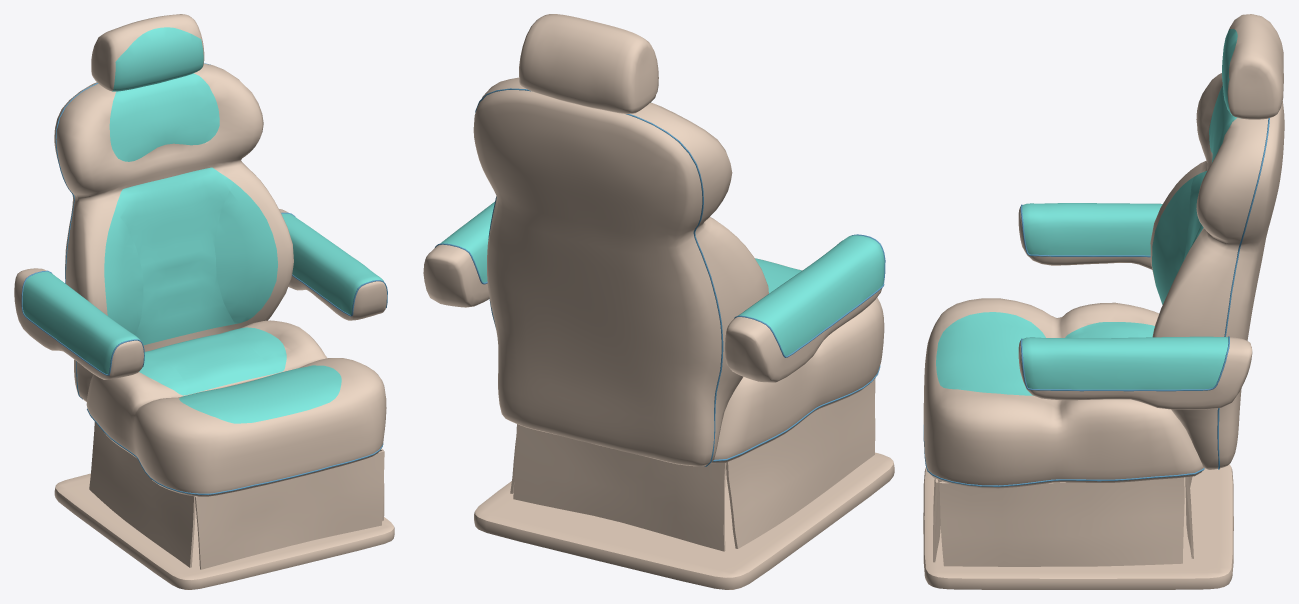
Rendered from chair1_v03.glb.
3 renders of one model, left to right at view 1: azimuth 30°, elevation 25°; view 2: azimuth 150°, elevation 25°; view 3: azimuth 270°, elevation 25°, orthographic. The views are drawn at different scales.
Parts seen in each view (by area): view 1: seat_bottom, seat_back, bottom_cover, seat_back_lower, base, seat_back_upper, seat_back_lower_Left, seat_bottom_upper, right_arm_upper, seat_bottom_lower, left_arm_upper, headset_front (+7 smaller); view 2: seat_back, bottom_cover, base, headset_back, seat_bottom, right_arm_upper, right_arm_lower, left_arm_lover, left_arm_upper, Shape001, seat_bottom_upper; view 3: seat_bottom, seat_back, bottom_cover, base, left_arm_upper, right_arm_upper, seat_bottom_upper, headset_back, left_arm_lover, seat_back_lower_Right, seat_bottom_lower_Right, right_arm_lower (+6 smaller).
Boxes of the visible parts, x1=… form: seat_bottom: x1=86, y1=320, x2=386, y2=496; seat_back: x1=54, y1=63, x2=293, y2=402; bottom_cover: x1=89, y1=421, x2=384, y2=569; seat_back_lower: x1=114, y1=167, x2=234, y2=345; base: x1=54, y1=473, x2=394, y2=589; seat_back_upper: x1=109, y1=73, x2=219, y2=161; seat_back_lower_Left: x1=215, y1=182, x2=277, y2=323; seat_bottom_upper: x1=179, y1=365, x2=341, y2=423; right_arm_upper: x1=22, y1=271, x2=140, y2=374; seat_bottom_lower: x1=144, y1=331, x2=280, y2=395; left_arm_upper: x1=281, y1=213, x2=383, y2=314; headset_front: x1=112, y1=27, x2=203, y2=91; seat_back: x1=473, y1=77, x2=768, y2=466; bottom_cover: x1=510, y1=378, x2=875, y2=551; base: x1=474, y1=452, x2=894, y2=589; headset_back: x1=519, y1=14, x2=658, y2=113; seat_bottom: x1=711, y1=259, x2=884, y2=463; right_arm_upper: x1=738, y1=235, x2=884, y2=355; right_arm_lower: x1=725, y1=288, x2=882, y2=382; left_arm_lover: x1=423, y1=244, x2=489, y2=307; left_arm_upper: x1=440, y1=202, x2=494, y2=282; Shape001: x1=475, y1=88, x2=723, y2=466; seat_bottom_upper: x1=755, y1=258, x2=801, y2=293; seat_bottom: x1=923, y1=298, x2=1203, y2=488; seat_back: x1=1150, y1=73, x2=1284, y2=469; bottom_cover: x1=933, y1=476, x2=1193, y2=566; base: x1=923, y1=464, x2=1233, y2=589; left_arm_upper: x1=1022, y1=336, x2=1228, y2=389; right_arm_upper: x1=1022, y1=203, x2=1162, y2=255; seat_bottom_upper: x1=936, y1=312, x2=1045, y2=395; headset_back: x1=1227, y1=14, x2=1283, y2=119; left_arm_lover: x1=1018, y1=337, x2=1252, y2=409; seat_back_lower_Right: x1=1152, y1=177, x2=1193, y2=304; seat_bottom_lower_Right: x1=1065, y1=322, x2=1154, y2=338; right_arm_lower: x1=1018, y1=206, x2=1152, y2=269.
Bounding box in the file's own units: 0.6342 × 0.9412 × 0.6165.
